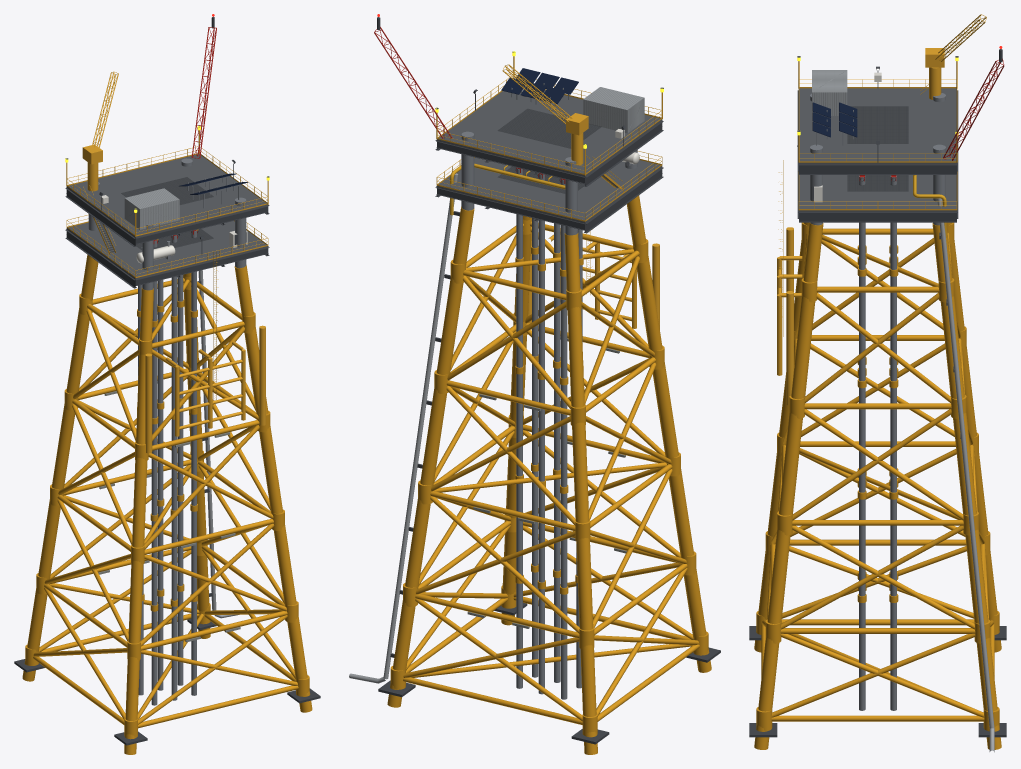
The model's file is whp.glb.
The picture shows the model from 3 angles, left to right: view 1: azimuth 30°, elevation 25°; view 2: azimuth 150°, elevation 25°; view 3: azimuth 270°, elevation 25°; orthographic projection. The views are drawn at different scales.
Parts seen in each view (by area): view 1: whp_static; view 2: whp_static; view 3: whp_static.
Part boxes in pixels (left/top/right/bottom): whp_static: left=14, top=14, right=320, bottom=754; whp_static: left=349, top=14, right=720, bottom=754; whp_static: left=749, top=14, right=1006, bottom=752.
Bounding box in the file's own units: 34.07 × 89.09 × 29.32.
Materials: 16 (2 with a texture image).
